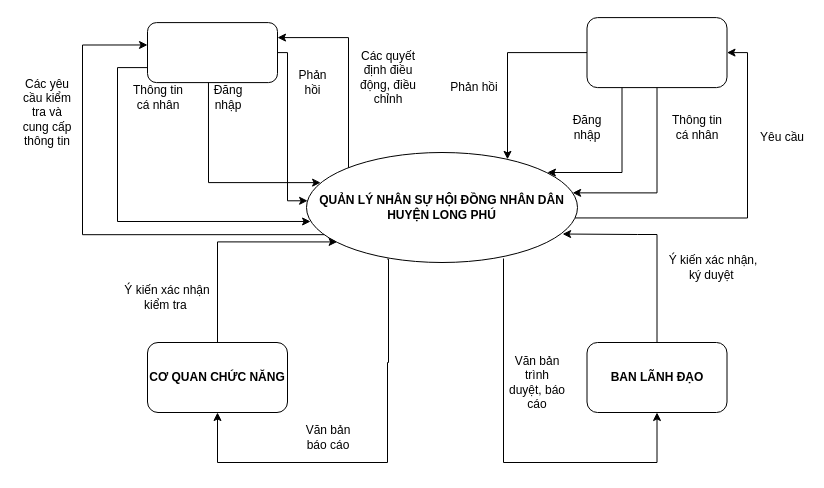
Some shapes in this 824 by 488 pixel diagram are drawn without their labels. Here are the shapes that lost their labels. From the top down, the centre of each, then its label:
pixel 212 52: CÁN BỘ
pixel 656 52: USER
